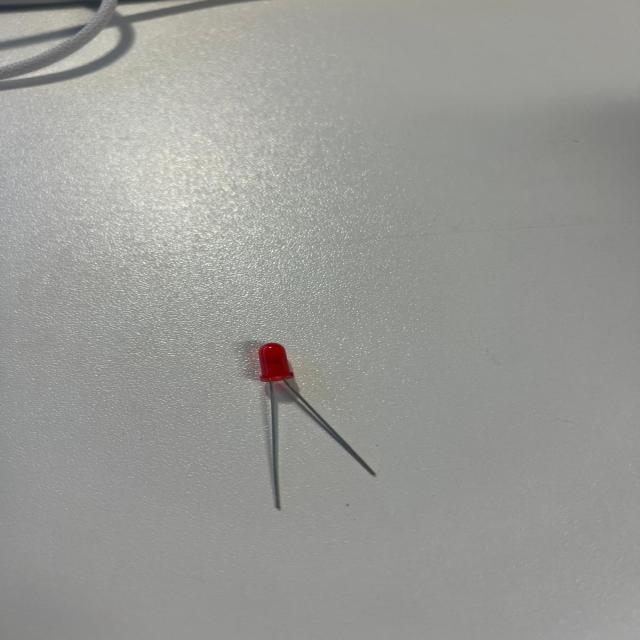REDLed: (245, 337, 406, 515)
